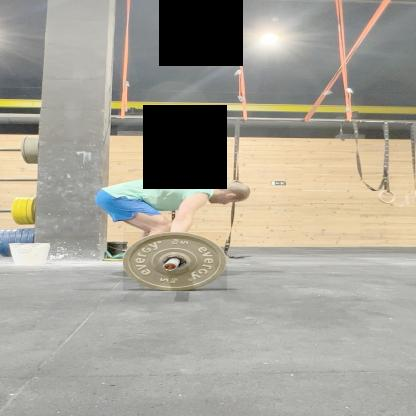barbell: (125, 233, 229, 292)
